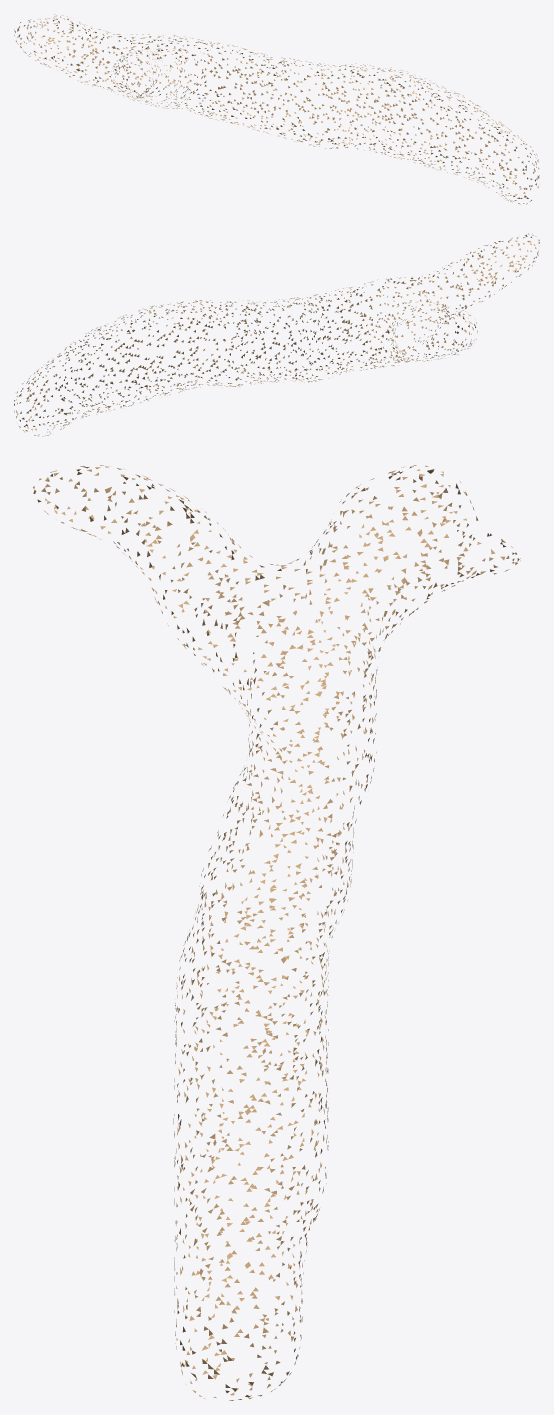
The model's file is morph_006.glb.
3 views of the same model, one above another, from view 1: azimuth 30°, elevation 25°; view 2: azimuth 150°, elevation 25°; view 3: azimuth 270°, elevation 25° (orthographic). The views are drawn at different scales.
Bounding box in the file's own units: 130 × 69.77 × 58.7.
